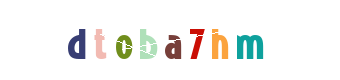7: (156, 0, 236, 80)
A: (133, 0, 213, 80)
B: (130, 0, 210, 80)
D: (37, 0, 117, 80)
H: (178, 0, 258, 80)
M: (209, 0, 289, 80)
O: (97, 0, 177, 80)
T: (83, 0, 163, 80)
